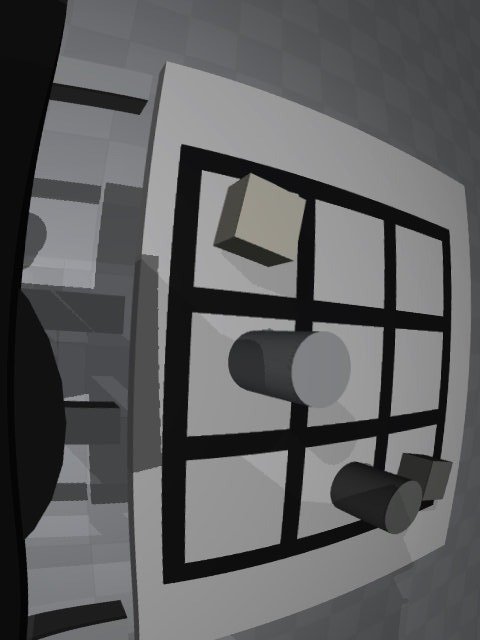can: (228, 330, 351, 408)
cube: (397, 453, 453, 501)
cylinder: (330, 461, 422, 534)
foam: (213, 173, 306, 267)
